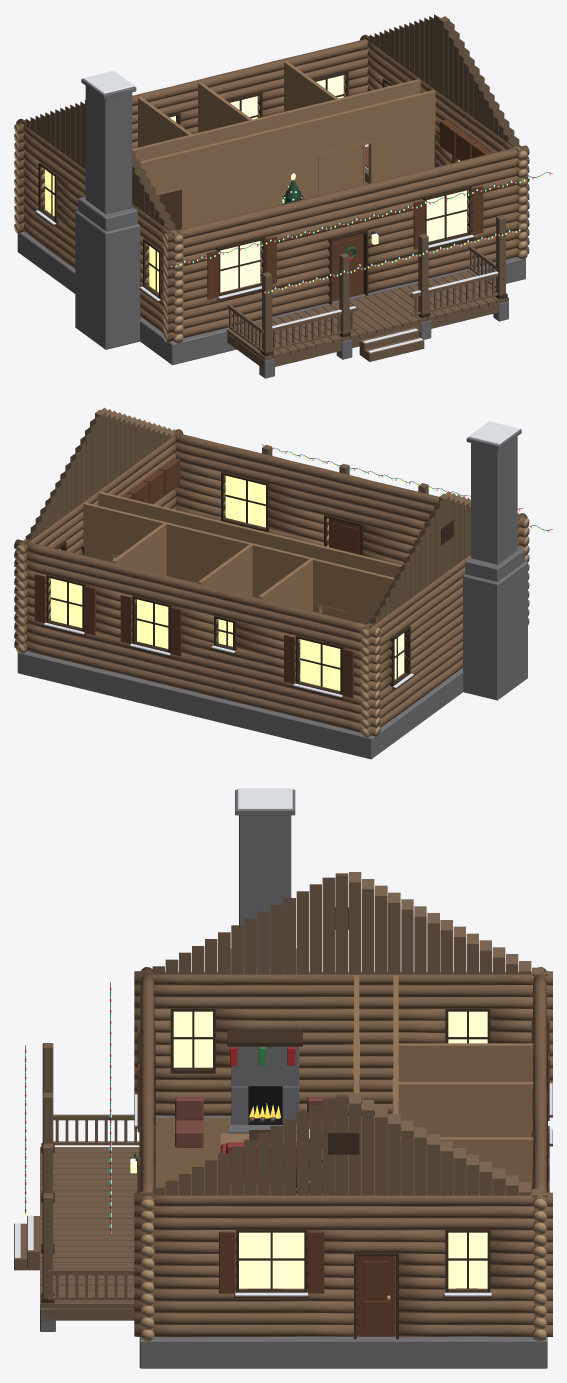
The model's file is interior.glb.
3 views of the same model, one above another, from view 1: azimuth 30°, elevation 25°; view 2: azimuth 150°, elevation 25°; view 3: azimuth 270°, elevation 25° (orthographic). The views are drawn at different scales.
Visible parts, largest first — view 1: Perete_Fata, Perete_Hol_Living, Perete_Spate, Perete_Stanga, Horn_Baza, Fronton_Dreapta, Veranda_Podea_Scanduri, Perete_Hol_Dormitoare, Horn_Sus, Fundatie_Piatra, Perete_Dreapta, Fronton_Stanga (+23 smaller); view 2: Perete_Spate, Perete_Fata, Perete_Hol_Dormitoare, Fundatie_Piatra, Perete_Stanga, Horn_Baza, Fronton_Dreapta, Horn_Sus, Fronton_Stanga, Perete_Hol_Living, Perete_Dreapta, Fereastra_Spate_0_Geam (+17 smaller); view 3: Perete_Dreapta, Perete_Stanga, Fronton_Stanga, Fronton_Dreapta, Fundatie_Piatra, Veranda_Podea_Scanduri, Perete_Baie_D2, Horn_Sus, Perete_D1_Baie, Perete_Fata, Perete_Spate, Fereastra_Dreapta_0_Geam (+22 smaller).
Part boxes in pixels (bbox=[...]): Perete_Fata: bbox=[163, 145, 529, 342]; Perete_Hol_Living: bbox=[140, 90, 435, 229]; Perete_Spate: bbox=[14, 36, 374, 233]; Perete_Stanga: bbox=[16, 118, 183, 343]; Horn_Baza: bbox=[75, 210, 140, 349]; Fronton_Dreapta: bbox=[363, 14, 524, 151]; Veranda_Podea_Scanduri: bbox=[226, 270, 508, 360]; Perete_Hol_Dormitoare: bbox=[132, 79, 420, 195]; Horn_Sus: bbox=[85, 86, 132, 214]; Fundatie_Piatra: bbox=[17, 232, 525, 365]; Perete_Dreapta: bbox=[360, 34, 527, 259]; Fronton_Stanga: bbox=[19, 100, 180, 235]; Perete_Spate: bbox=[14, 539, 380, 736]; Perete_Fata: bbox=[175, 433, 529, 625]; Perete_Hol_Dormitoare: bbox=[83, 502, 394, 624]; Fundatie_Piatra: bbox=[17, 651, 463, 759]; Perete_Stanga: bbox=[359, 513, 527, 738]; Horn_Baza: bbox=[463, 561, 527, 700]; Fronton_Dreapta: bbox=[19, 407, 180, 545]; Horn_Sus: bbox=[471, 436, 517, 564]; Fronton_Stanga: bbox=[363, 491, 524, 629]; Perete_Hol_Living: bbox=[98, 491, 401, 619]; Perete_Dreapta: bbox=[15, 429, 183, 653]; Fereastra_Spate_0_Geam: bbox=[300, 639, 340, 690]; Perete_Dreapta: bbox=[134, 1192, 552, 1337]; Perete_Stanga: bbox=[134, 971, 552, 1115]; Fronton_Stanga: bbox=[139, 872, 547, 976]; Fronton_Dreapta: bbox=[139, 1093, 547, 1197]; Fundatie_Piatra: bbox=[139, 1115, 547, 1368]; Veranda_Podea_Scanduri: bbox=[40, 1147, 139, 1308]; Perete_Baie_D2: bbox=[398, 1082, 533, 1137]; Horn_Sus: bbox=[239, 815, 291, 967]; Perete_D1_Baie: bbox=[398, 1043, 533, 1081]; Perete_Fata: bbox=[140, 967, 154, 1341]; Perete_Spate: bbox=[532, 967, 547, 1341]; Fereastra_Dreapta_0_Geam: bbox=[239, 1232, 304, 1288].
Size of the model in its own units: 47.01 by 28.1 by 41.2.
